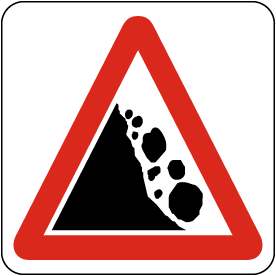FallenSign: (13, 15, 264, 261)
